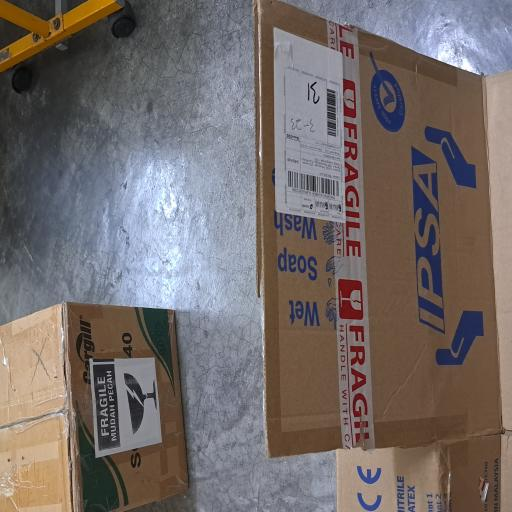cardboard: (0, 338, 384, 512), (0, 0, 158, 250)
